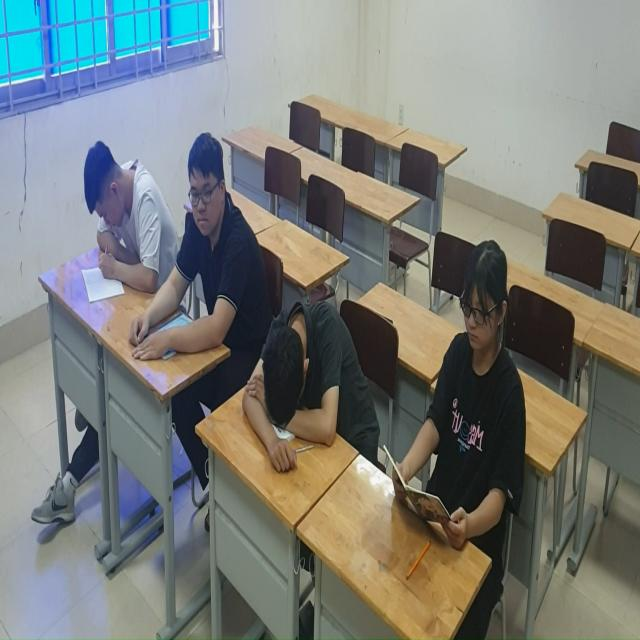read: (381, 241, 540, 574), (73, 136, 172, 317)
sleep: (232, 268, 375, 519)
